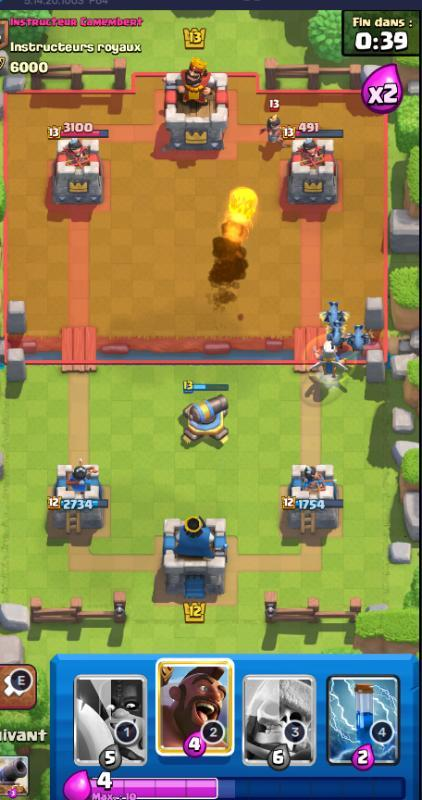enemy_princess: (258, 90, 290, 153)
player_cannon: (170, 374, 238, 454)
player_fireball: (206, 178, 263, 324)
player_healer: (304, 344, 353, 386)
player_minions: (319, 298, 350, 327), (345, 321, 372, 351), (324, 318, 348, 350)
